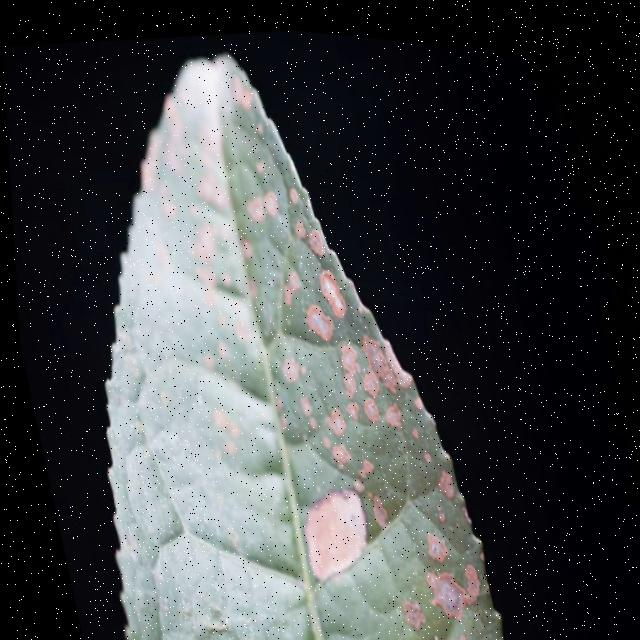Tea red rust: (104, 37, 488, 640)
